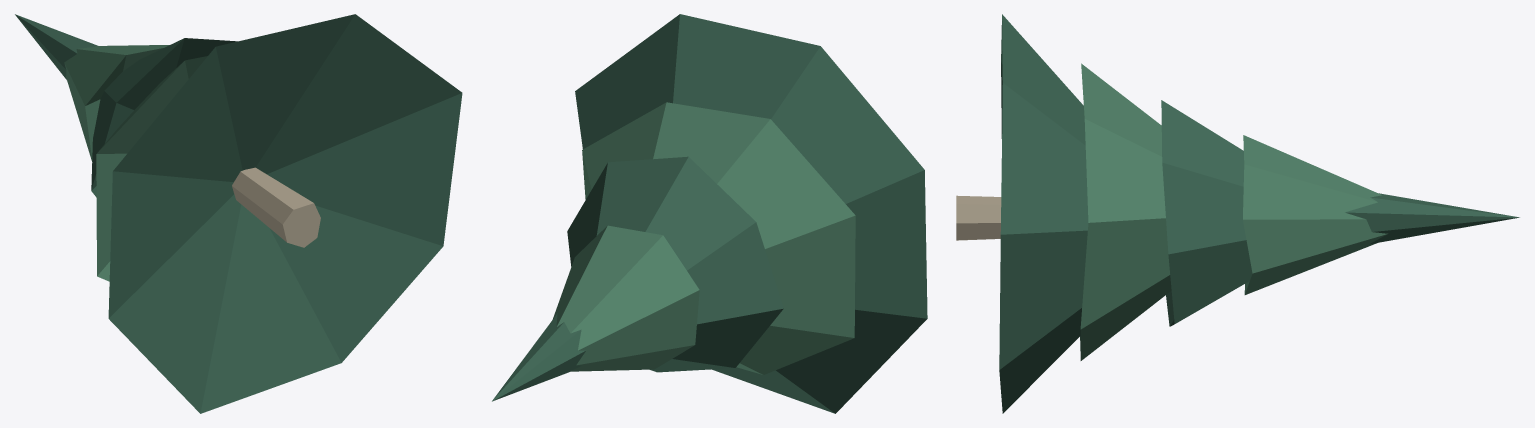
File: TreeConiferC5.fbx
The picture shows the model from 3 angles, left to right: view 1: azimuth 30°, elevation 25°; view 2: azimuth 150°, elevation 25°; view 3: azimuth 270°, elevation 25°; orthographic projection. The views are drawn at different scales.
Parts seen in each view (by area): view 1: M_Tree_Pine_Dark, M_Tree_Pine_Mid, M_Tree_PaleWood; view 2: M_Tree_Pine_Dark, M_Tree_Pine_Mid; view 3: M_Tree_Pine_Dark, M_Tree_Pine_Mid, M_Tree_PaleWood.
Boxes of the visible parts, x1,y1,x2,y2 form: M_Tree_Pine_Dark: [15, 14, 462, 413]; M_Tree_Pine_Mid: [64, 45, 207, 281]; M_Tree_PaleWood: [232, 167, 320, 247]; M_Tree_Pine_Dark: [492, 14, 927, 413]; M_Tree_Pine_Mid: [552, 102, 855, 374]; M_Tree_Pine_Dark: [999, 14, 1519, 413]; M_Tree_Pine_Mid: [1080, 63, 1387, 360]; M_Tree_PaleWood: [956, 195, 1001, 240].
Size of the model in its own units: 2304 by 2269 by 3261.
